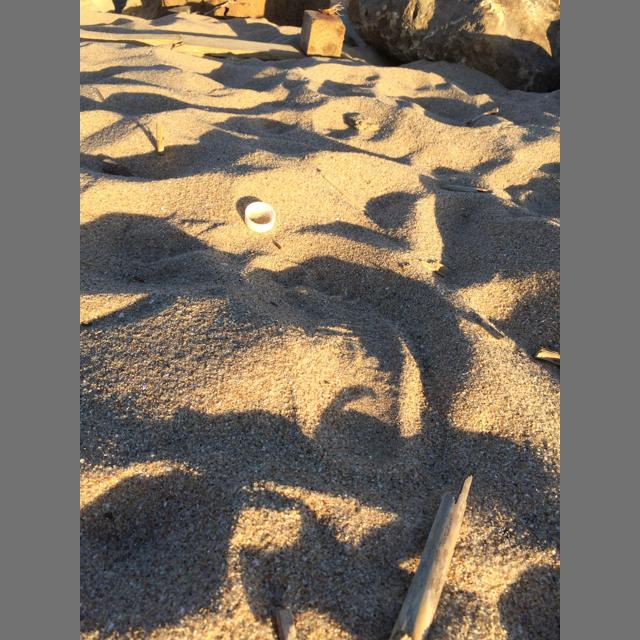litter: (245, 202, 276, 233)
